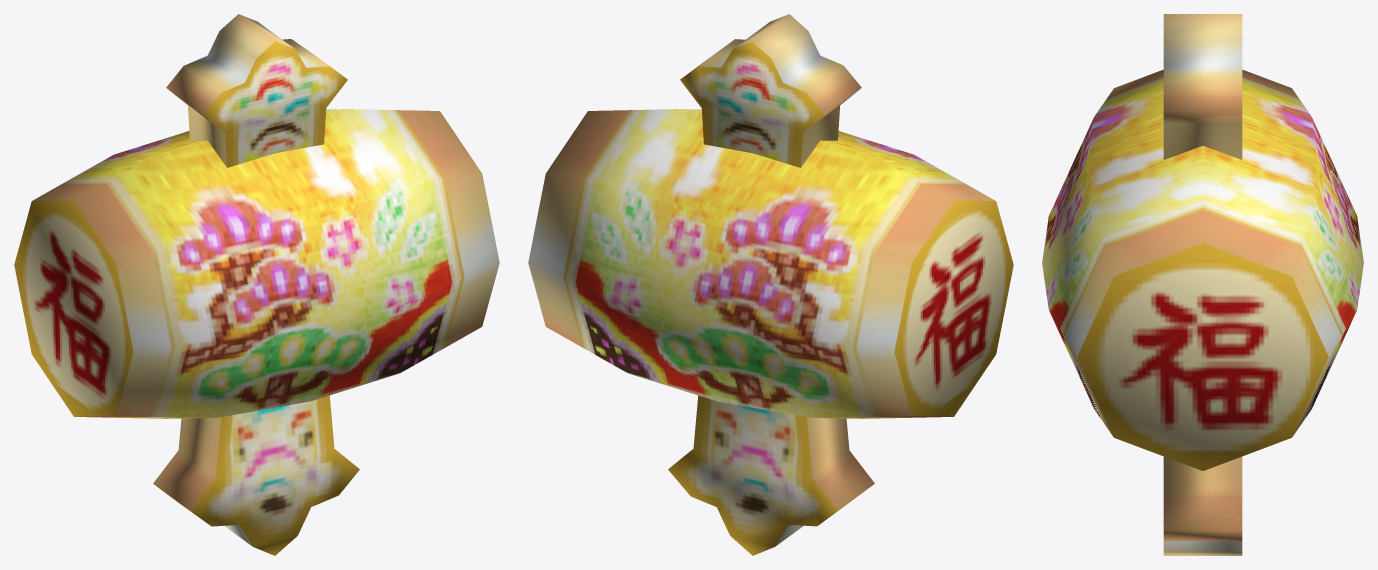
Rendered from mallet.fbx.
The picture shows the model from 3 angles, left to right: view 1: azimuth 30°, elevation 25°; view 2: azimuth 150°, elevation 25°; view 3: azimuth 270°, elevation 25°; orthographic projection. The views are drawn at different scales.
Visible parts, largest first — view 1: mallet; view 2: mallet; view 3: mallet.
Boxes of the visible parts, box(x1,y1,x2,y2) form: mallet: box(14, 14, 499, 555); mallet: box(528, 14, 1013, 555); mallet: box(1042, 14, 1363, 555).
Size of the model in its own units: 38.36 by 51.51 by 27.71.
